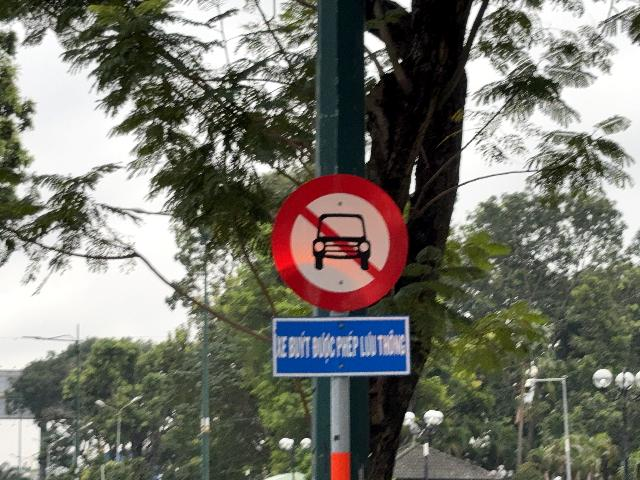cam-o-to: (271, 172, 409, 312)
